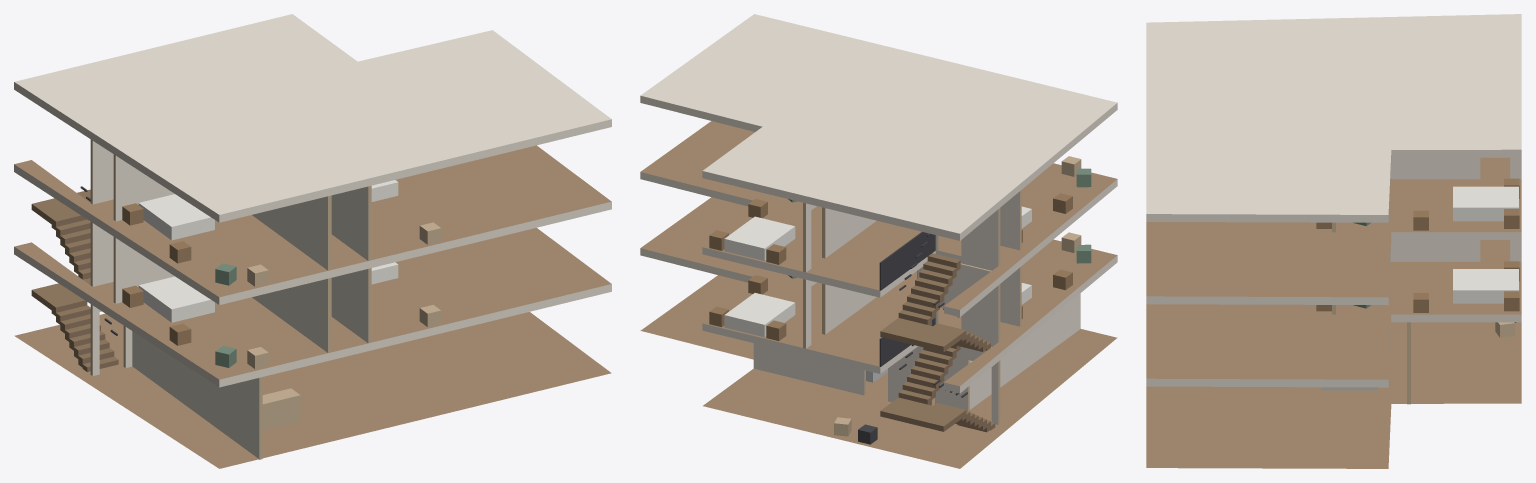
The model's file is interior.glb.
3 renders of one model, left to right at view 1: azimuth 30°, elevation 25°; view 2: azimuth 150°, elevation 25°; view 3: azimuth 270°, elevation 25°, orthographic. The views are drawn at different scales.
Visible parts, largest first — view 1: slabs, partitions, stair, coarse-s2, coarse-s1, coarse-s0; view 2: slabs, partitions, stair, coarse-s2, coarse-s1, coarse-s0; view 3: slabs, partitions, coarse-s2, coarse-s1, coarse-s0.
Boxes of the visible parts, x1=… form: slabs: x1=14, y1=14, x2=611, y2=468; partitions: x1=90, y1=139, x2=371, y2=459; stair: x1=31, y1=186, x2=118, y2=371; coarse-s2: x1=122, y1=180, x2=441, y2=286; coarse-s1: x1=122, y1=262, x2=441, y2=369; coarse-s0: x1=262, y1=388, x2=300, y2=430; slabs: x1=640, y1=14, x2=1117, y2=468; partitions: x1=753, y1=190, x2=1080, y2=424; stair: x1=879, y1=232, x2=995, y2=432; coarse-s2: x1=709, y1=156, x2=1091, y2=264; coarse-s1: x1=709, y1=232, x2=1091, y2=340; coarse-s0: x1=834, y1=368, x2=887, y2=444; slabs: x1=1146, y1=14, x2=1521, y2=468; partitions: x1=1332, y1=157, x2=1521, y2=404; coarse-s2: x1=1316, y1=178, x2=1519, y2=230; coarse-s1: x1=1316, y1=261, x2=1519, y2=312; coarse-s0: x1=1321, y1=322, x2=1516, y2=390.
Size of the model in its own units: 14.39 by 8.5 by 11.36.
